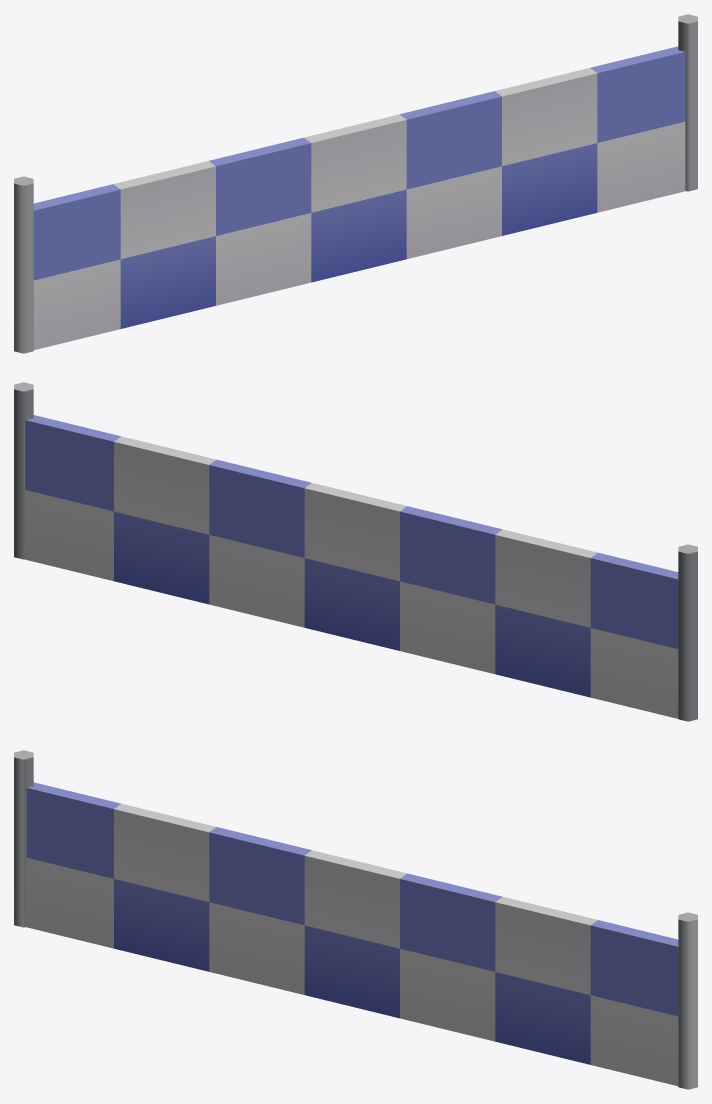
Rendered from CheckerBackboardBlue.glb.
3 renders of one model, top to bottom at view 1: azimuth 30°, elevation 25°; view 2: azimuth 150°, elevation 25°; view 3: azimuth 330°, elevation 25°, orthographic.
Visible parts, largest first — view 1: CheckerBackboardBlue; view 2: CheckerBackboardBlue; view 3: CheckerBackboardBlue.
Boxes of the visible parts, bbox=[...] form: CheckerBackboardBlue: bbox=[14, 14, 697, 353]; CheckerBackboardBlue: bbox=[14, 382, 697, 721]; CheckerBackboardBlue: bbox=[14, 750, 697, 1089].
Bounding box in the file's own units: 1.69 × 0.398 × 0.0418.
